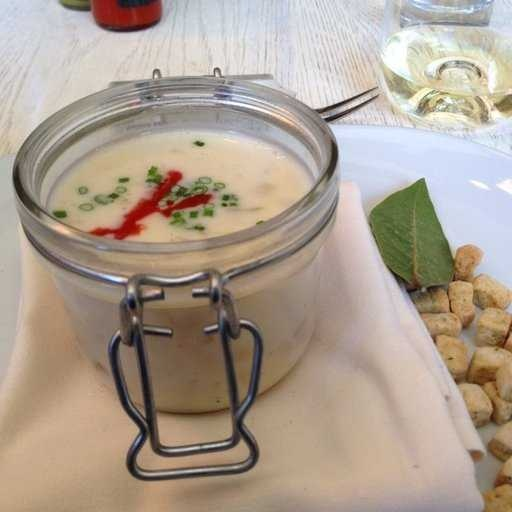soup: (15, 81, 330, 306)
